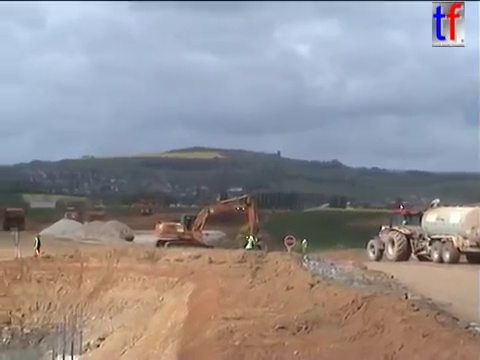excavator: (153, 192, 266, 254)
truck: (364, 202, 480, 265), (1, 205, 26, 233), (62, 205, 85, 225), (87, 204, 106, 223), (138, 203, 151, 216)
worker: (30, 232, 44, 262), (250, 231, 264, 255), (299, 235, 311, 260), (245, 234, 255, 255)
